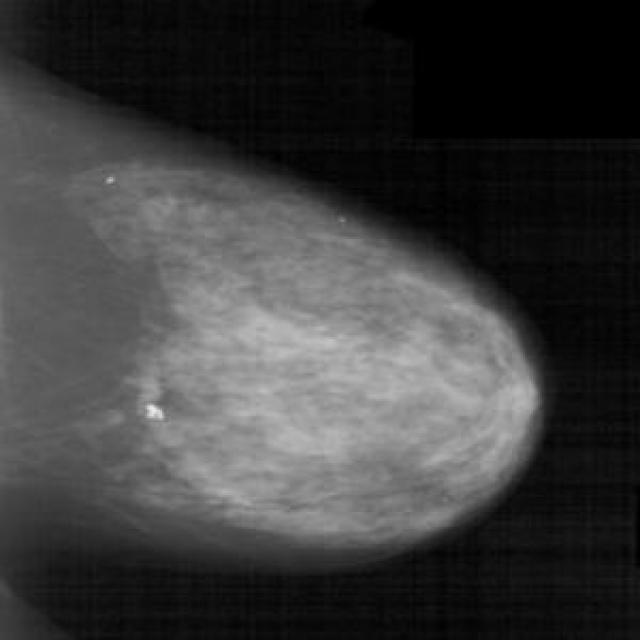tumor: (128, 304, 521, 492)
